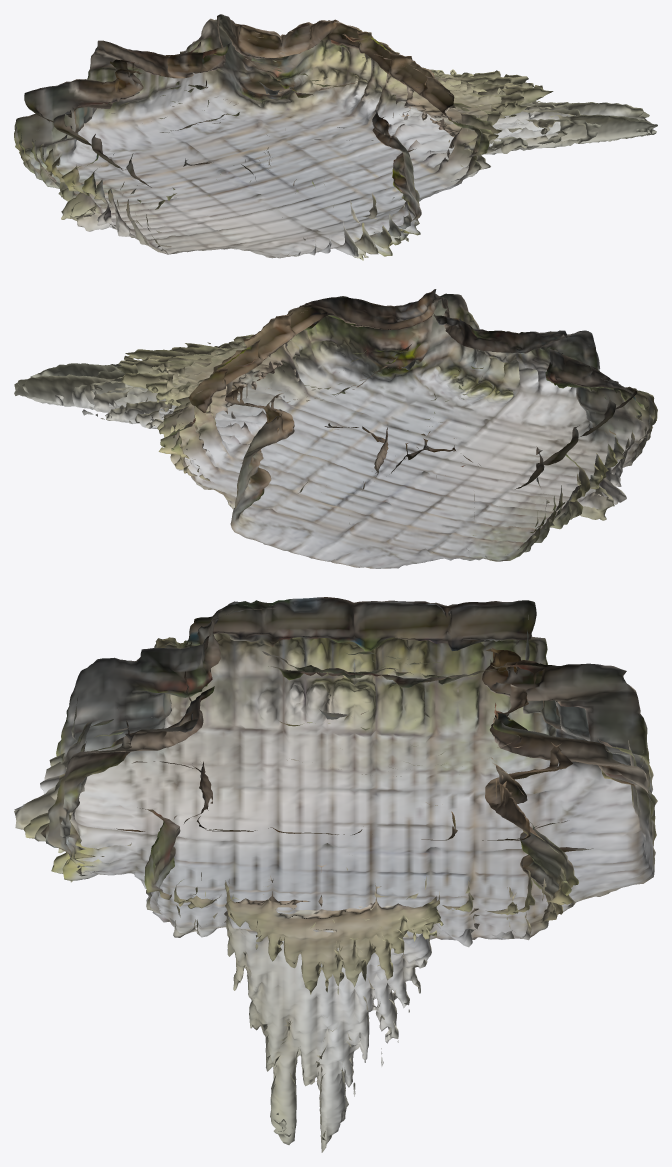
Rendered from world-1769759903361.glb.
The picture shows the model from 3 angles, top to bottom: view 1: azimuth 30°, elevation 25°; view 2: azimuth 150°, elevation 25°; view 3: azimuth 270°, elevation 25°; orthographic projection. The views are drawn at different scales.
Parts seen in each view (by area): view 1: world; view 2: world; view 3: world.
Boxes of the visible parts, x1=… form: world: x1=14, y1=14, x2=657, y2=260; world: x1=14, y1=289, x2=657, y2=568; world: x1=14, y1=597, x2=657, y2=1152.
Size of the model in its own units: 10 by 2.21 by 6.73.
